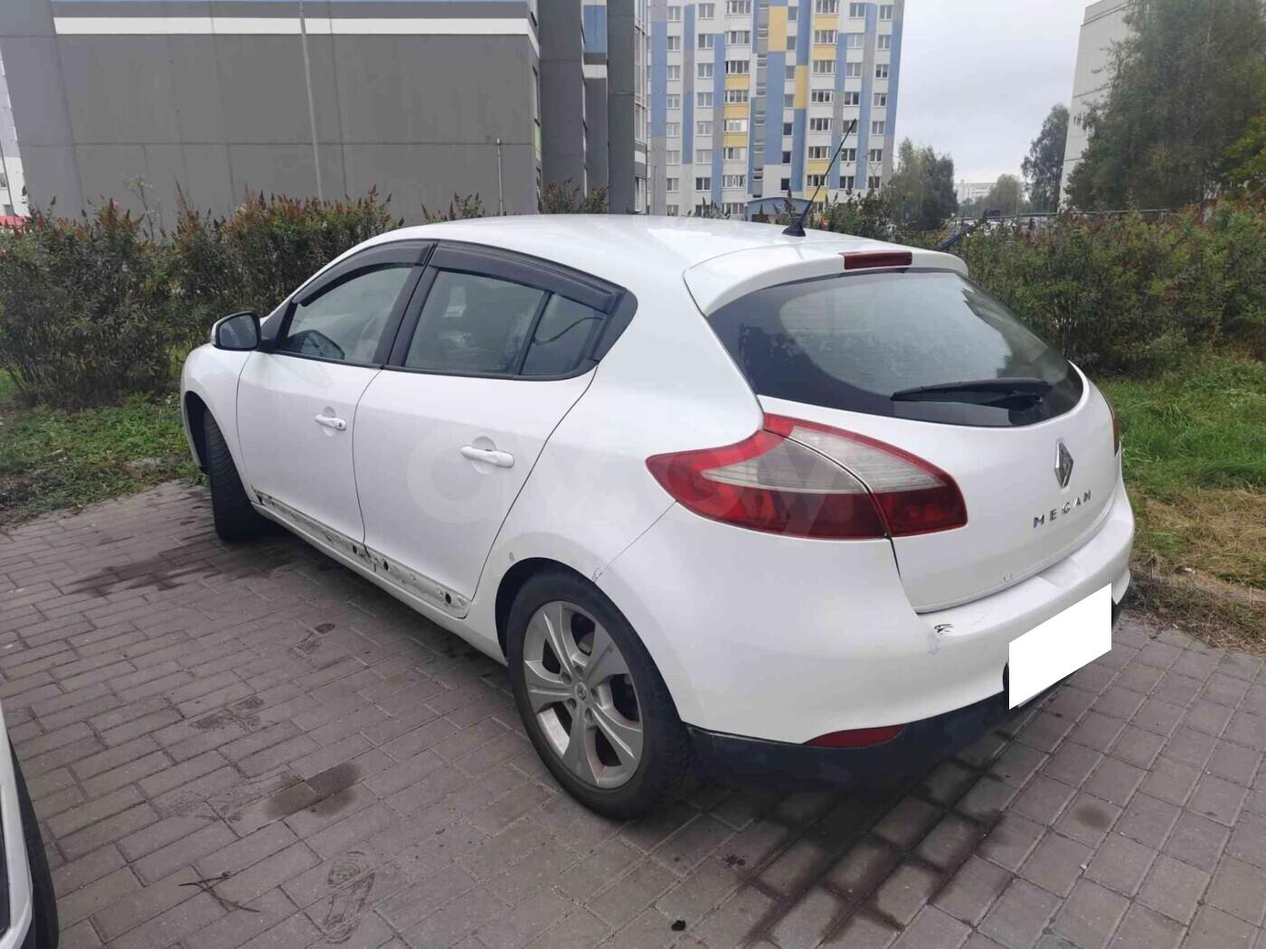Megane_2008-2014: (172, 203, 1133, 780)
